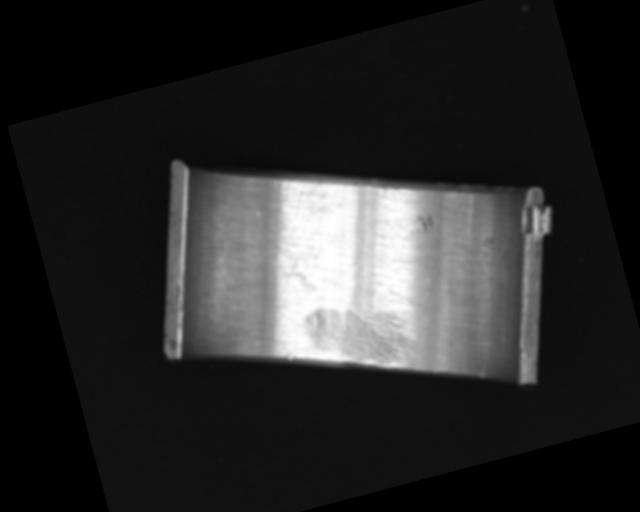blot: (270, 240, 329, 303)
bruise: (414, 211, 436, 234), (282, 351, 296, 362)
nick: (478, 364, 490, 378)
scratch: (301, 284, 423, 385)
